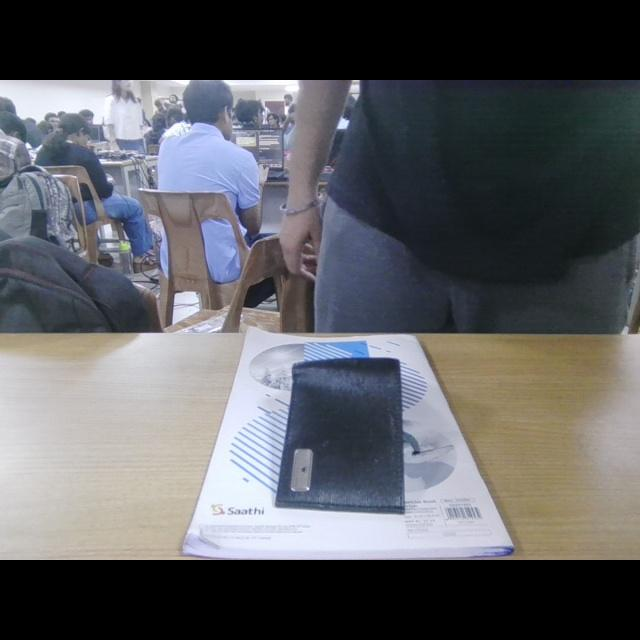wallet: (274, 354, 414, 526)
